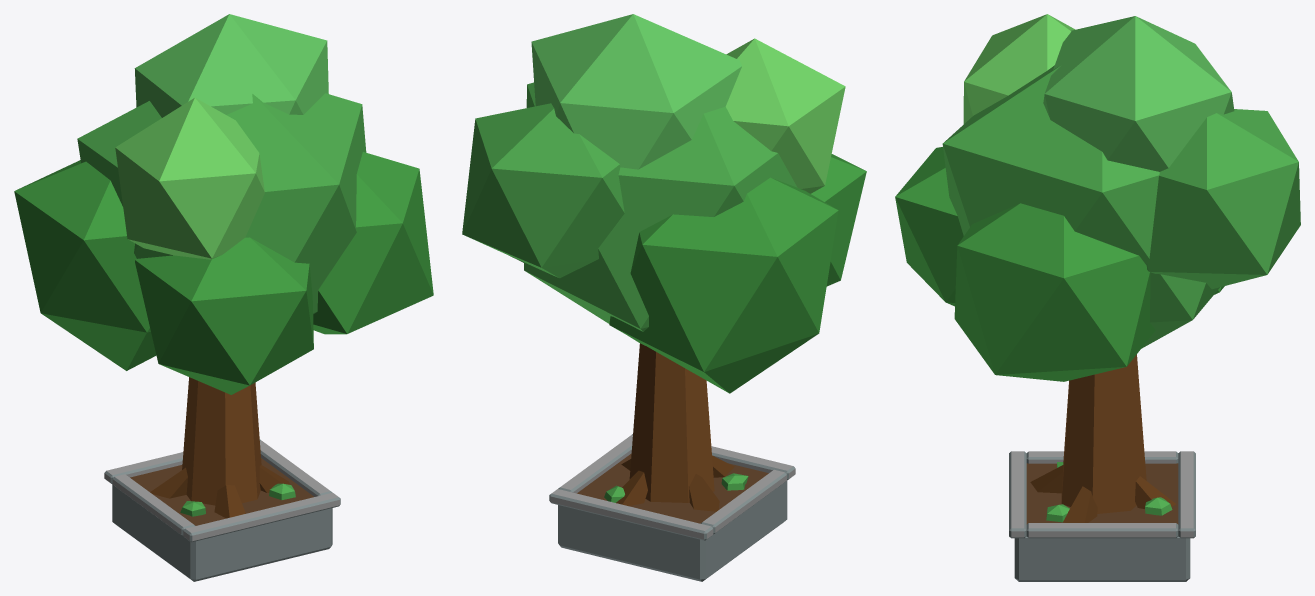
Rendered from planterTree.glb.
3 renders of one model, left to right at view 1: azimuth 30°, elevation 25°; view 2: azimuth 150°, elevation 25°; view 3: azimuth 270°, elevation 25°, orthographic. The views are drawn at different scales.
Parts seen in each view (by area): view 1: laub-m, planterTree-m, stamm-m; view 2: laub-m, planterTree-m, stamm-m; view 3: laub-m, planterTree-m, stamm-m.
Part boxes in pixels (bbox=[...]): laub-m: bbox=[14, 14, 433, 394]; planterTree-m: bbox=[104, 439, 340, 581]; stamm-m: bbox=[150, 377, 289, 518]; laub-m: bbox=[462, 14, 866, 393]; planterTree-m: bbox=[549, 434, 795, 581]; stamm-m: bbox=[616, 343, 734, 511]; laub-m: bbox=[895, 14, 1300, 381]; planterTree-m: bbox=[1009, 451, 1195, 581]; stamm-m: bbox=[1030, 354, 1175, 522].
Size of the model in its own units: 3.83 by 5.44 by 3.69.
